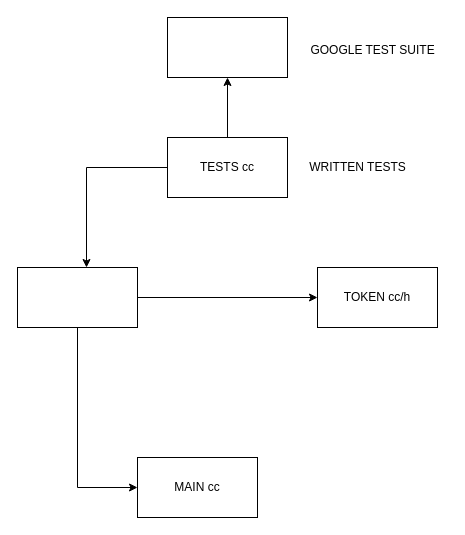
This 465x535 diagram has some shape labels left out. The box of each missing label's shape, as (x1, y1, x2, y2) in pixels:
EXTERNAL bin: (166, 16, 288, 78)
LEXER cc/h: (16, 266, 138, 328)
